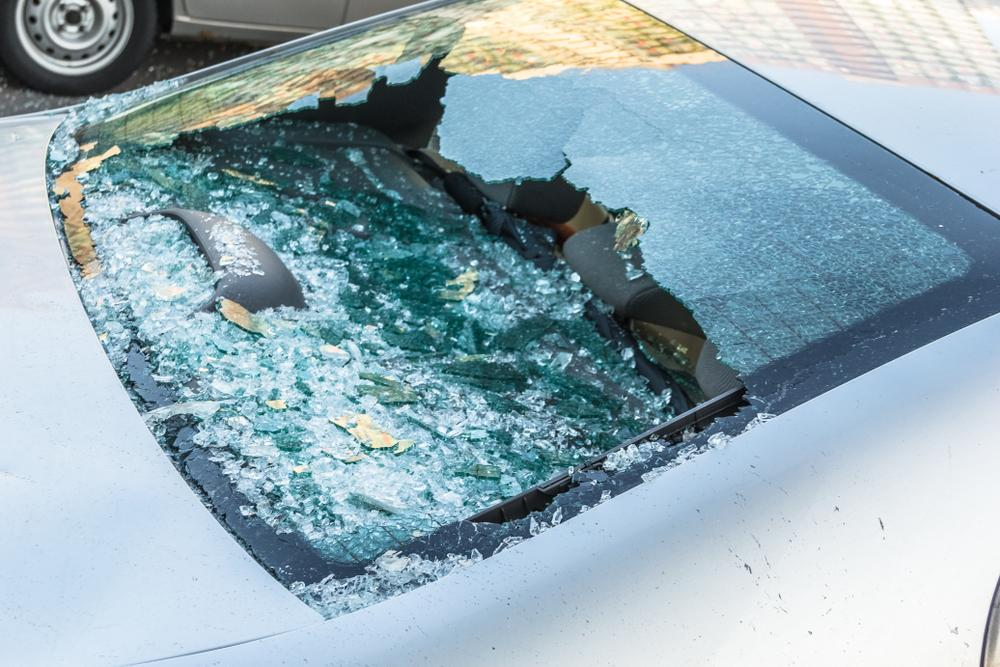glass shatter: (47, 0, 1000, 620)
